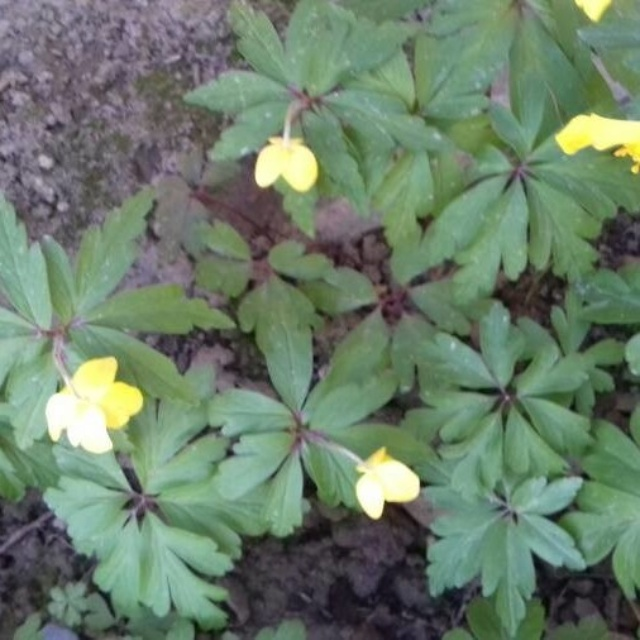obstacle: (15, 176, 367, 586), (215, 27, 597, 310), (419, 304, 624, 597)
